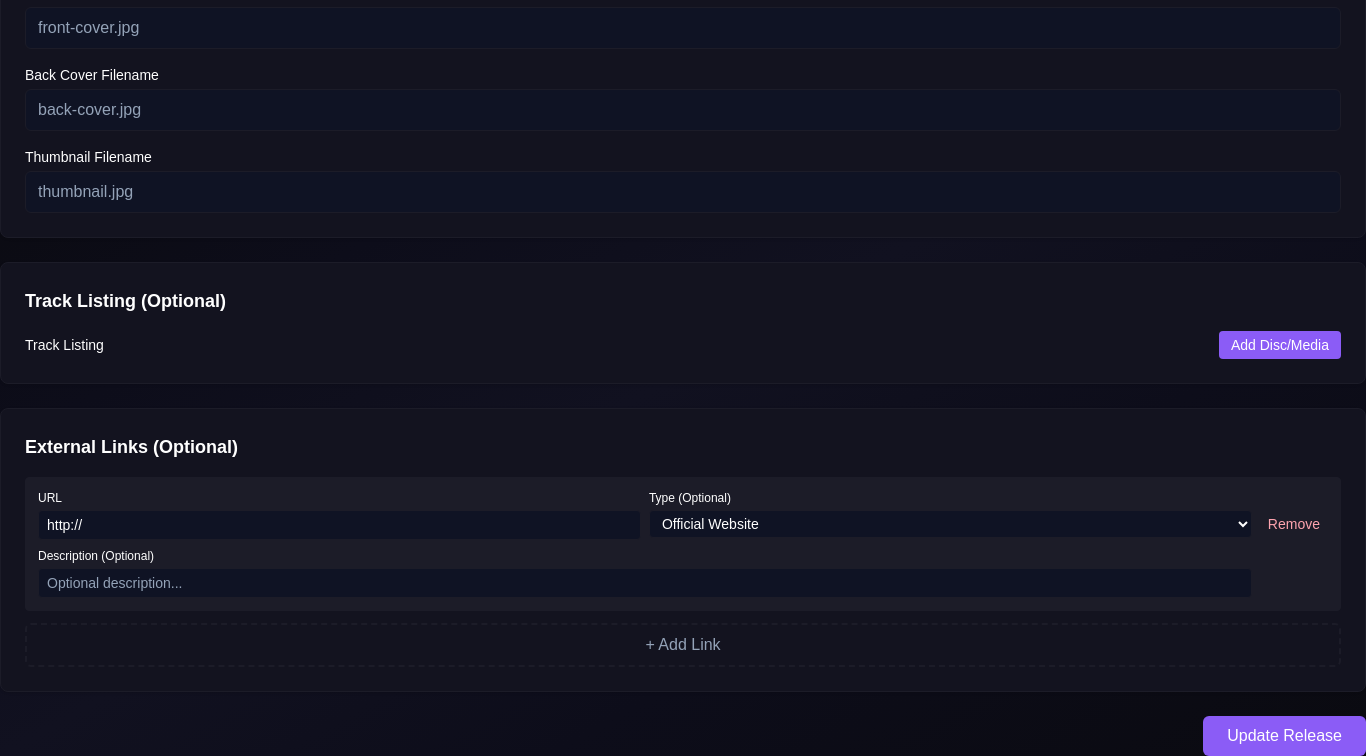
it: AddReleaseForm - Edit Mode › still validates that a link URL must be a valid URL format
(page scrolled)
Click the button "Update Release" at (1285, 736), box [1203, 716, 1365, 755]
(page scrolled)
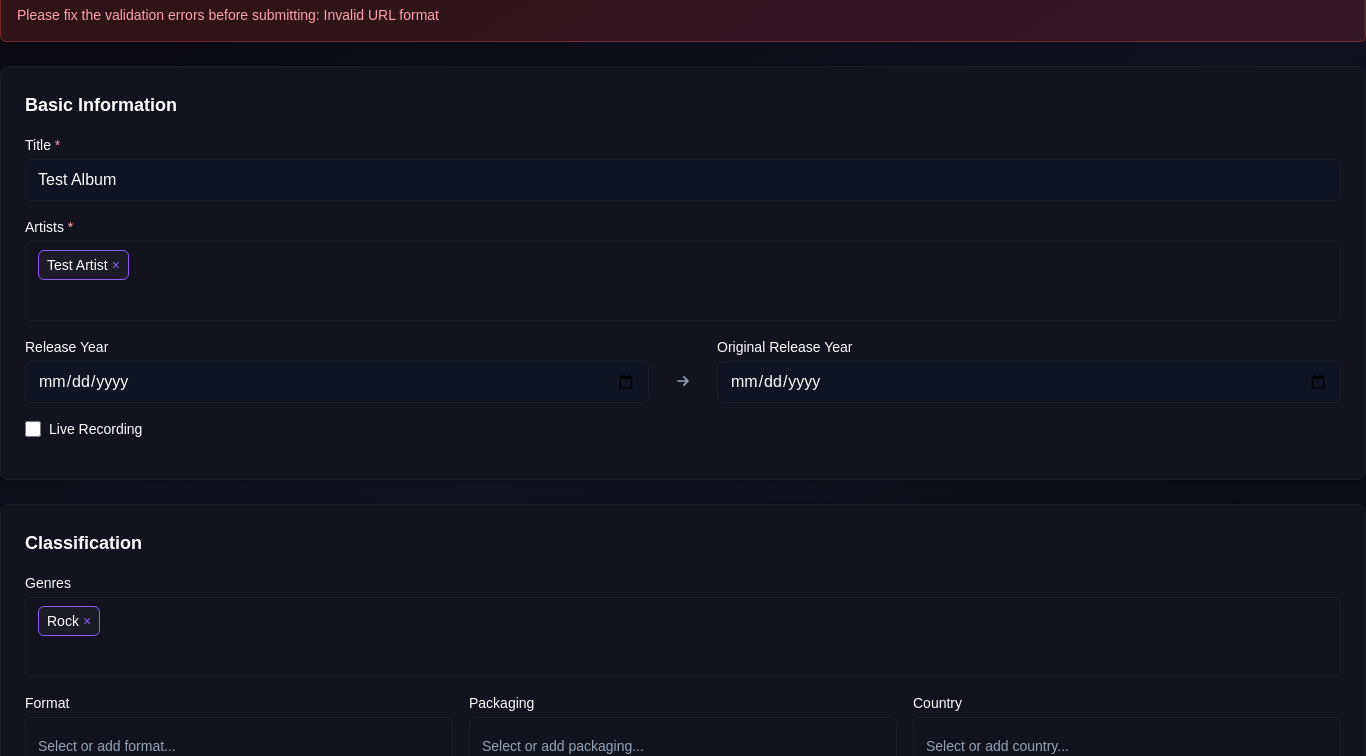
Now the message shows "Invalid URL format", box [17, 7, 439, 23]
